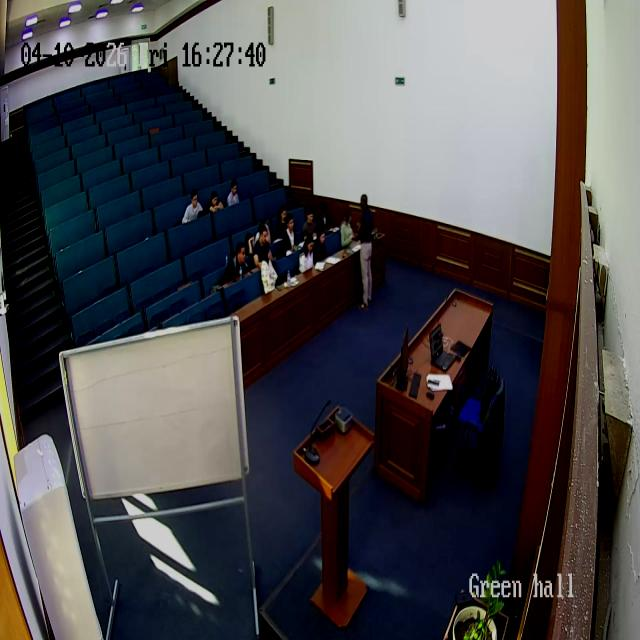person: (357, 192, 375, 308), (221, 242, 250, 286), (252, 223, 274, 271), (181, 189, 203, 223), (283, 213, 300, 257), (298, 233, 315, 274), (312, 224, 328, 264), (274, 205, 290, 243), (339, 210, 355, 248), (302, 210, 318, 243), (206, 190, 224, 213), (318, 207, 332, 235), (226, 180, 240, 207)
